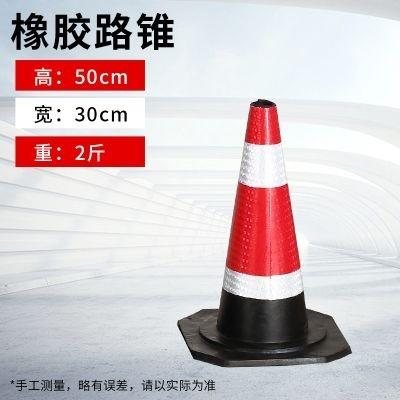cone_barrel: (198, 103, 325, 359)
